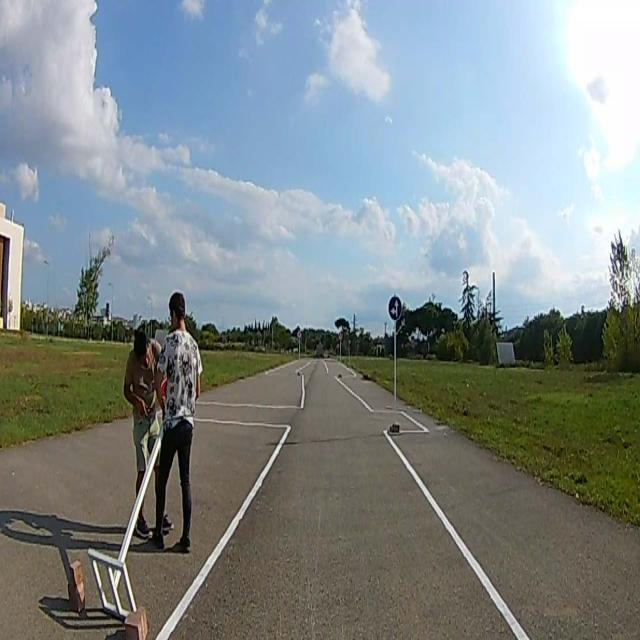ilerisol: (387, 293, 401, 321)
